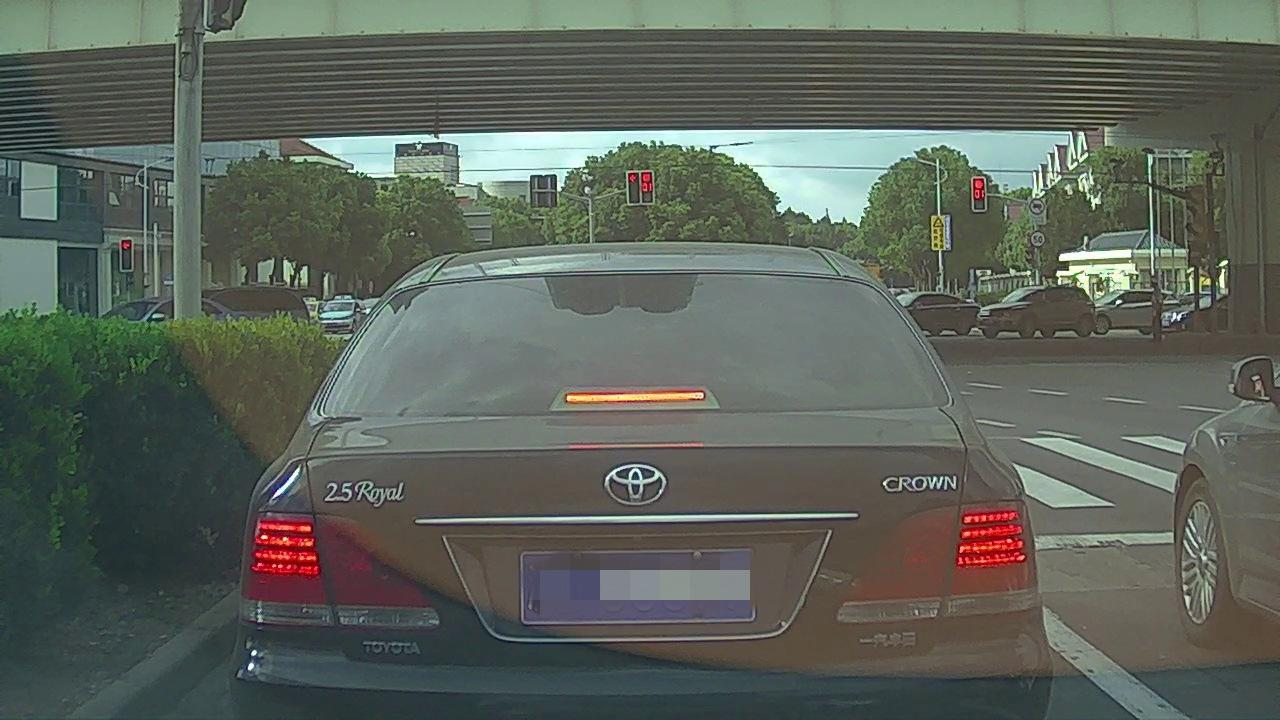traffic_light: (973, 178, 985, 210), (641, 172, 653, 203), (628, 172, 639, 204), (121, 240, 132, 270)
